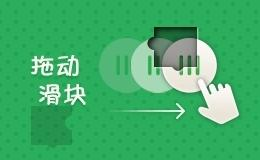target: (131, 7, 175, 47)
